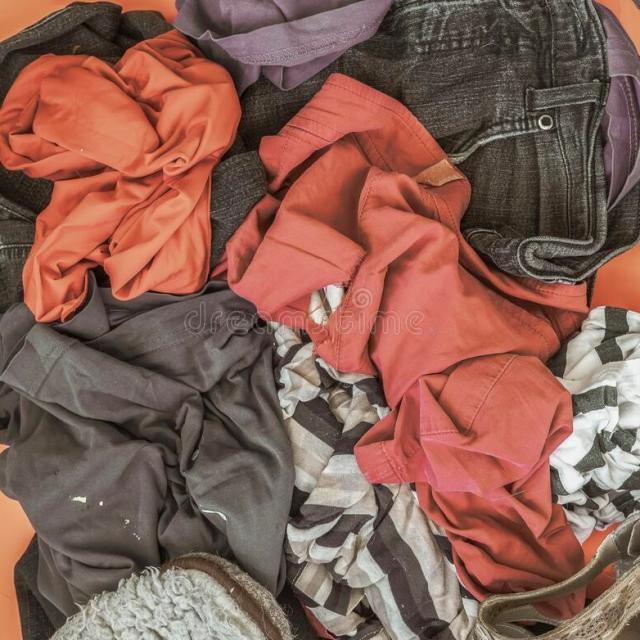clothes: (230, 71, 585, 613), (240, 0, 623, 310), (280, 308, 640, 614), (0, 274, 284, 562), (0, 32, 241, 330)
